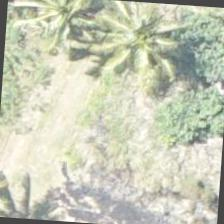Kelapa_Sawit: (87, 0, 183, 82), (4, 0, 88, 48)
